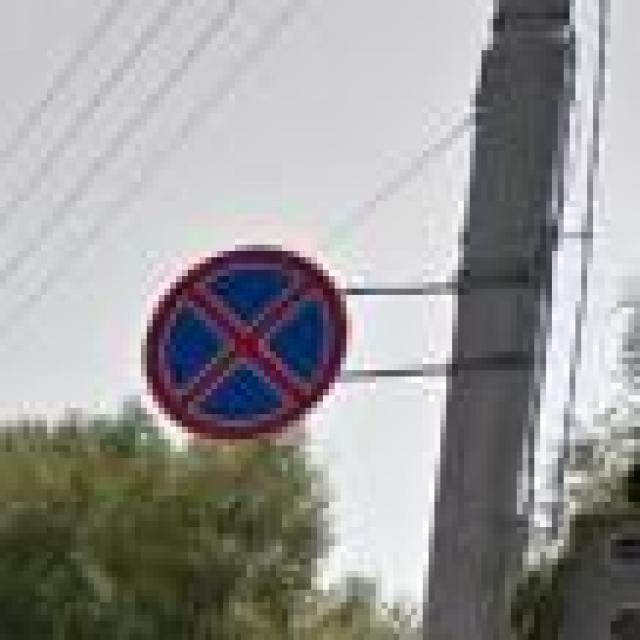Zakaz zatrzymywania sie: (141, 244, 352, 446)
